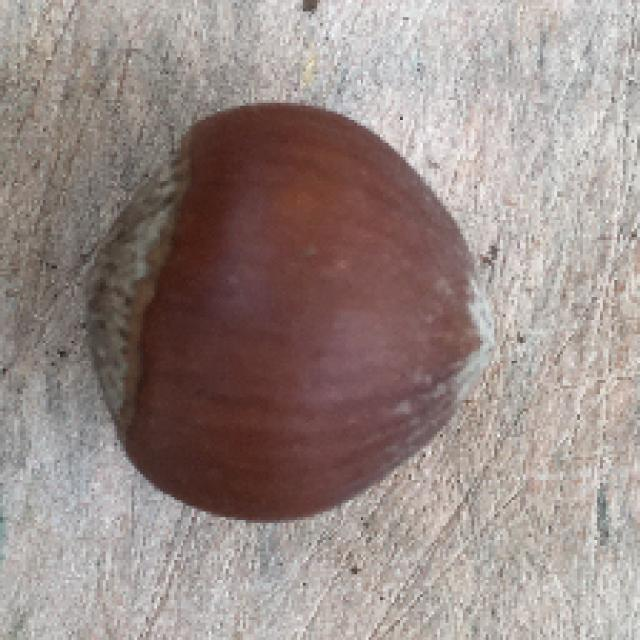damagedHazelnut: (82, 106, 500, 524)
